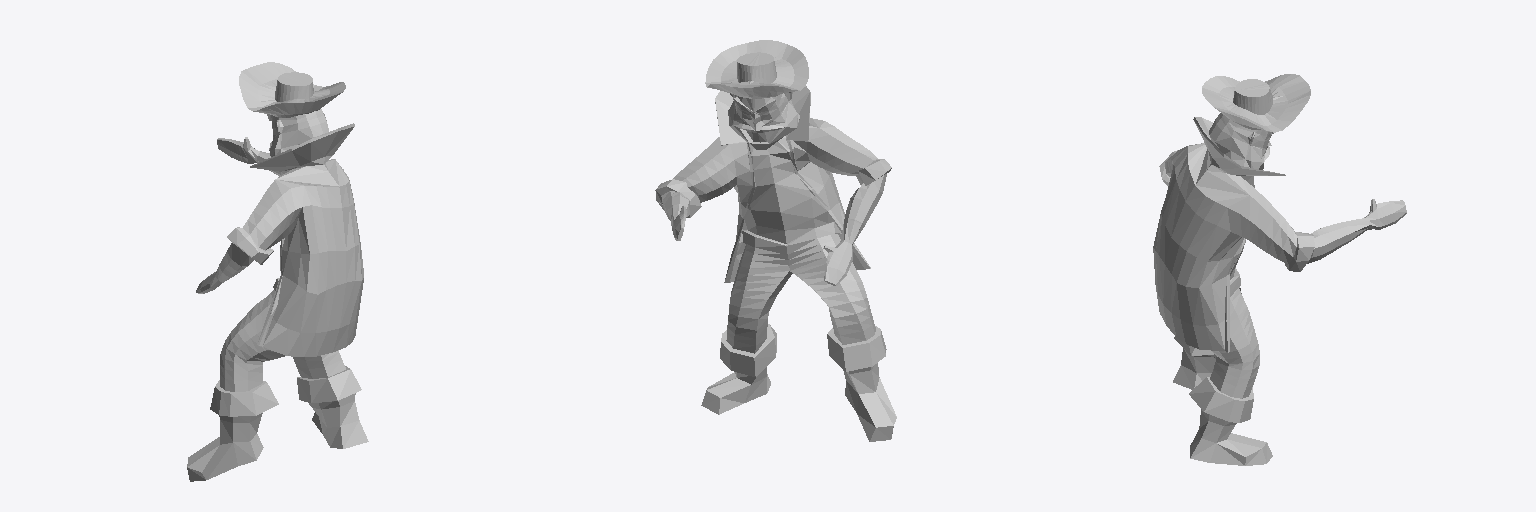
File: pirata_000372.obj
3 views of the same model, side by side, from view 1: azimuth 30°, elevation 25°; view 2: azimuth 150°, elevation 25°; view 3: azimuth 270°, elevation 25° (orthographic).
Parts seen in each view (by area): view 1: Pirata_PirataH; view 2: Pirata_PirataH; view 3: Pirata_PirataH.
Part boxes in pixels (x1,y1,x2,y2): Pirata_PirataH: (187,62,368,481); Pirata_PirataH: (655,40,896,441); Pirata_PirataH: (1153,74,1406,465).
Size of the model in its own units: 5.16 by 9.2 by 5.82.